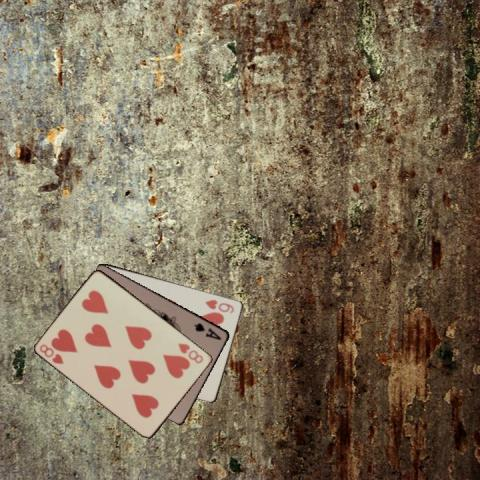6h: (202, 296, 235, 314)
8h: (175, 340, 205, 365), (37, 342, 65, 366)
As: (192, 320, 223, 341)
